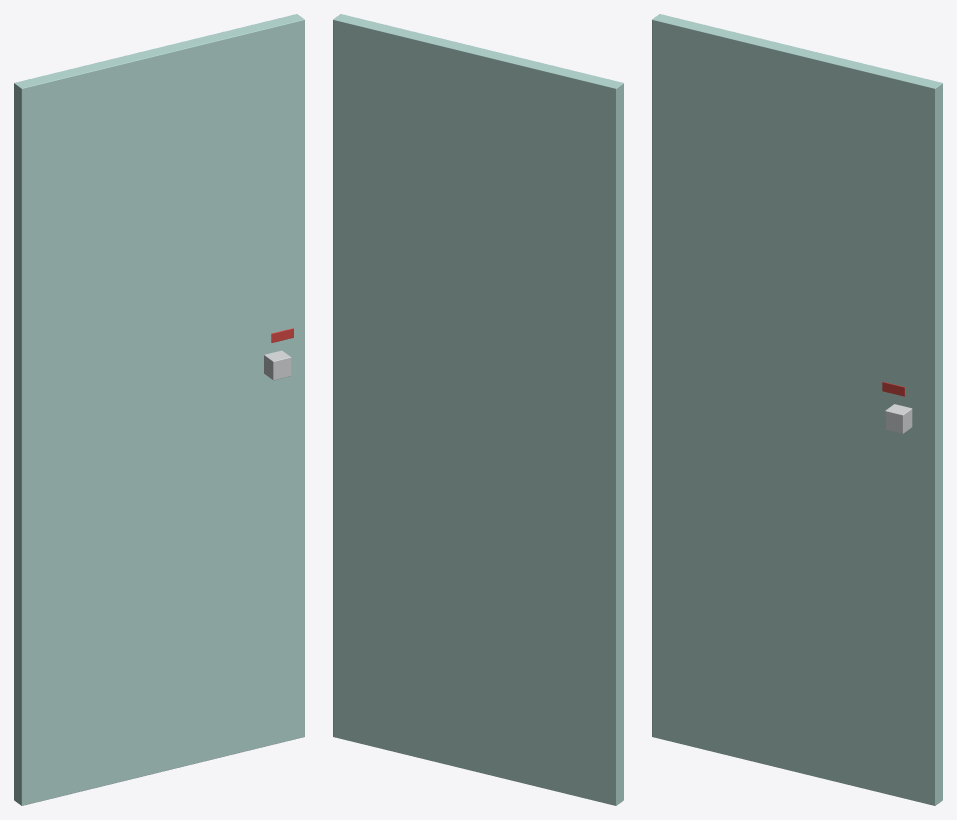
File: SM_StallDoor.fbx
3 views of the same model, side by side, from view 1: azimuth 30°, elevation 25°; view 2: azimuth 150°, elevation 25°; view 3: azimuth 330°, elevation 25° (orthographic).
Visible parts, largest first — view 1: SM_StallDoor; view 2: SM_StallDoor; view 3: SM_StallDoor.
Part boxes in pixels (box(x1,y1,x2,y2)): SM_StallDoor: box(14, 14, 304, 805); SM_StallDoor: box(333, 14, 623, 805); SM_StallDoor: box(652, 14, 942, 805).
Size of the model in its own units: 0.62 by 1.5 by 0.067.
